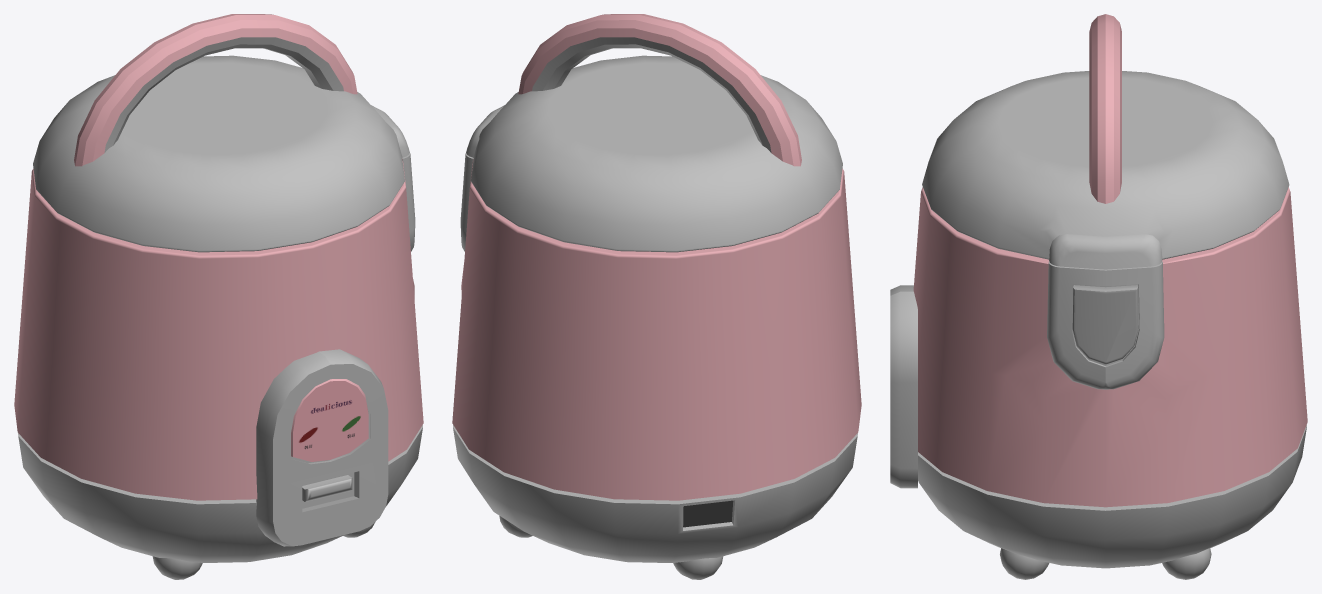
Rendered from cooker.fbx.
The picture shows the model from 3 angles, left to right: view 1: azimuth 30°, elevation 25°; view 2: azimuth 150°, elevation 25°; view 3: azimuth 270°, elevation 25°; orthographic projection.
Parts seen in each view (by area): view 1: cooker; view 2: cooker; view 3: cooker.
Part boxes in pixels (<box>): cooker: <box>14,14,423,579</box>; cooker: <box>452,14,861,579</box>; cooker: <box>890,14,1307,579</box>.
Size of the model in its own units: 0.014 by 0.019 by 0.0144.
5 materials, 1 textured.
